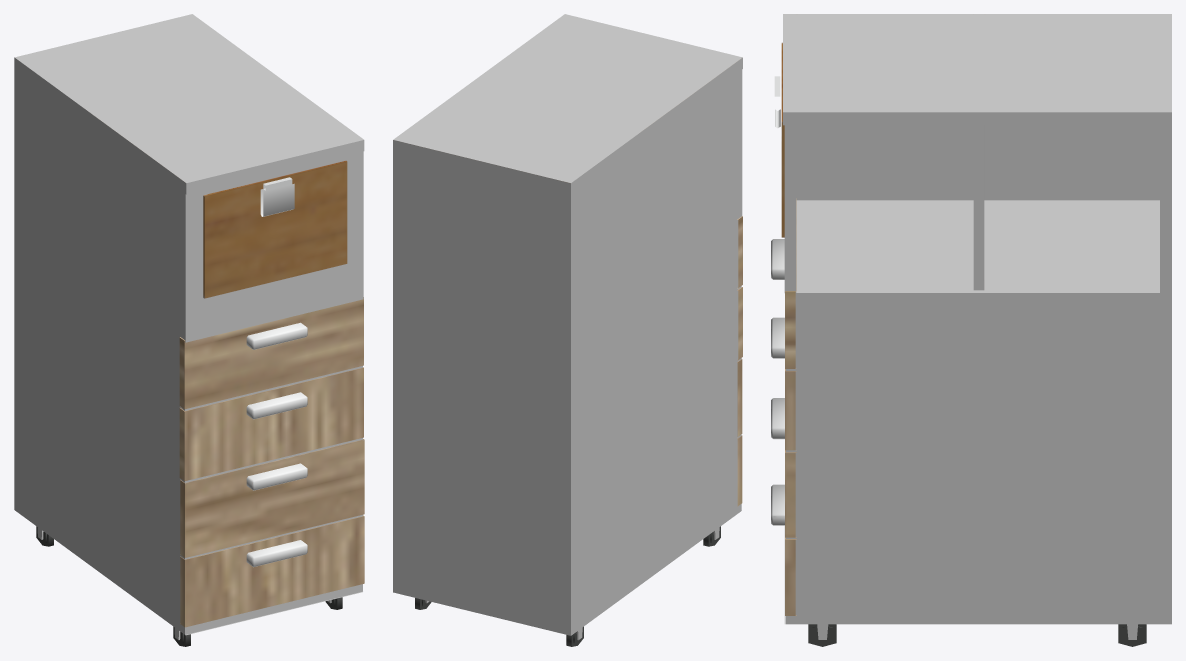
File: LC_3098_DresserB_LOD1.FBX
3 views of the same model, side by side, from view 1: azimuth 30°, elevation 25°; view 2: azimuth 150°, elevation 25°; view 3: azimuth 270°, elevation 25° (orthographic). The views are drawn at different scales.
Visible parts, largest first — view 1: LC_3098_DresserB_LOD1; view 2: LC_3098_DresserB_LOD1; view 3: LC_3098_DresserB_LOD1.
Boxes of the visible parts, box(x1,y1,x2,y2) form: LC_3098_DresserB_LOD1: box(14, 14, 364, 646); LC_3098_DresserB_LOD1: box(393, 14, 742, 646); LC_3098_DresserB_LOD1: box(771, 14, 1171, 646).
Bounding box in the file's own units: 50.99 × 129 × 86.92.
1 material, 1 textured.
